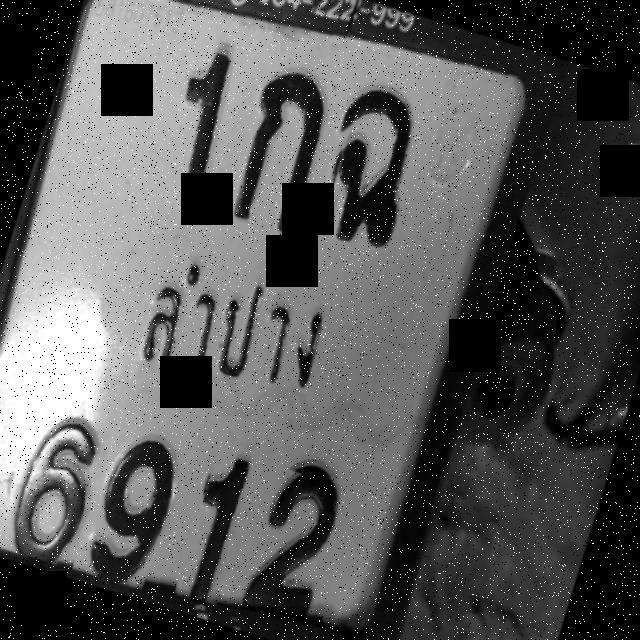letters: (213, 460, 380, 640), (222, 44, 368, 245), (311, 65, 437, 256), (71, 407, 198, 593), (136, 32, 254, 216), (0, 389, 109, 566), (173, 438, 270, 608)
license-plate: (0, 0, 533, 640)
province: (104, 247, 364, 440)
